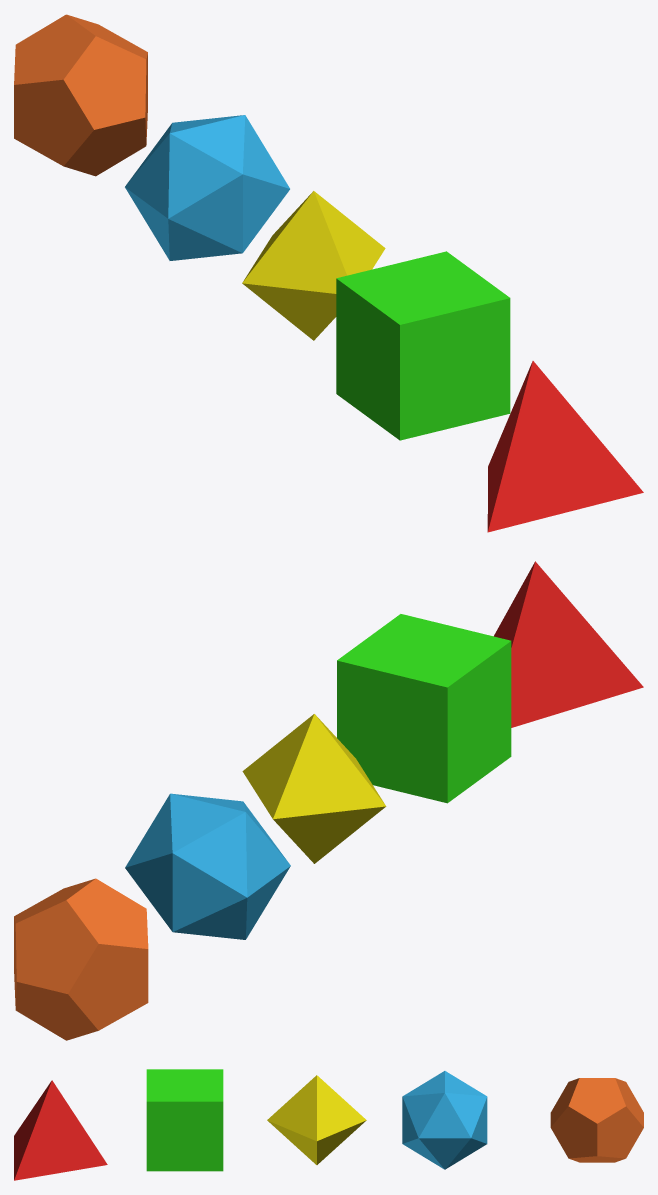
The model's file is plato.glb.
3 views of the same model, one above another, from view 1: azimuth 30°, elevation 25°; view 2: azimuth 150°, elevation 25°; view 3: azimuth 270°, elevation 25° (orthographic). The views are drawn at different scales.
Parts seen in each view (by area): view 1: Earth, Aether, Water, Fire, Air; view 2: Earth, Aether, Water, Fire, Air; view 3: Earth, Aether, Water, Fire, Air.
Boxes of the visible parts, left/top/right/bottom form: Earth: left=336, top=251, right=510, bottom=440; Aether: left=14, top=14, right=147, bottom=176; Water: left=125, top=115, right=289, bottom=260; Fire: left=487, top=361, right=643, bottom=532; Air: left=242, top=191, right=385, bottom=340; Earth: left=337, top=614, right=511, bottom=803; Aether: left=14, top=878, right=148, bottom=1040; Water: left=125, top=793, right=290, bottom=939; Fire: left=494, top=561, right=643, bottom=727; Air: left=242, top=714, right=386, bottom=863; Earth: left=146, top=1069, right=223, bottom=1171; Aether: left=550, top=1078, right=643, bottom=1162; Water: left=402, top=1071, right=487, bottom=1169; Fire: left=14, top=1080, right=107, bottom=1180; Air: left=267, top=1075, right=366, bottom=1164.
Bounding box in the file's own units: 2.18 × 2 × 12.61.
